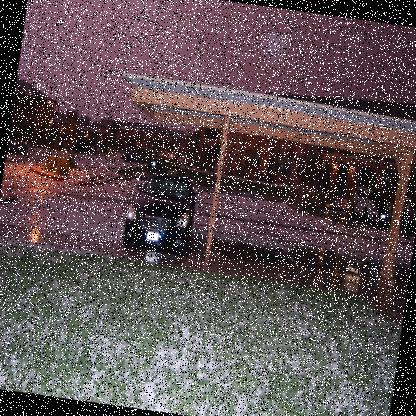Car: (122, 170, 198, 258), (352, 185, 394, 221)
